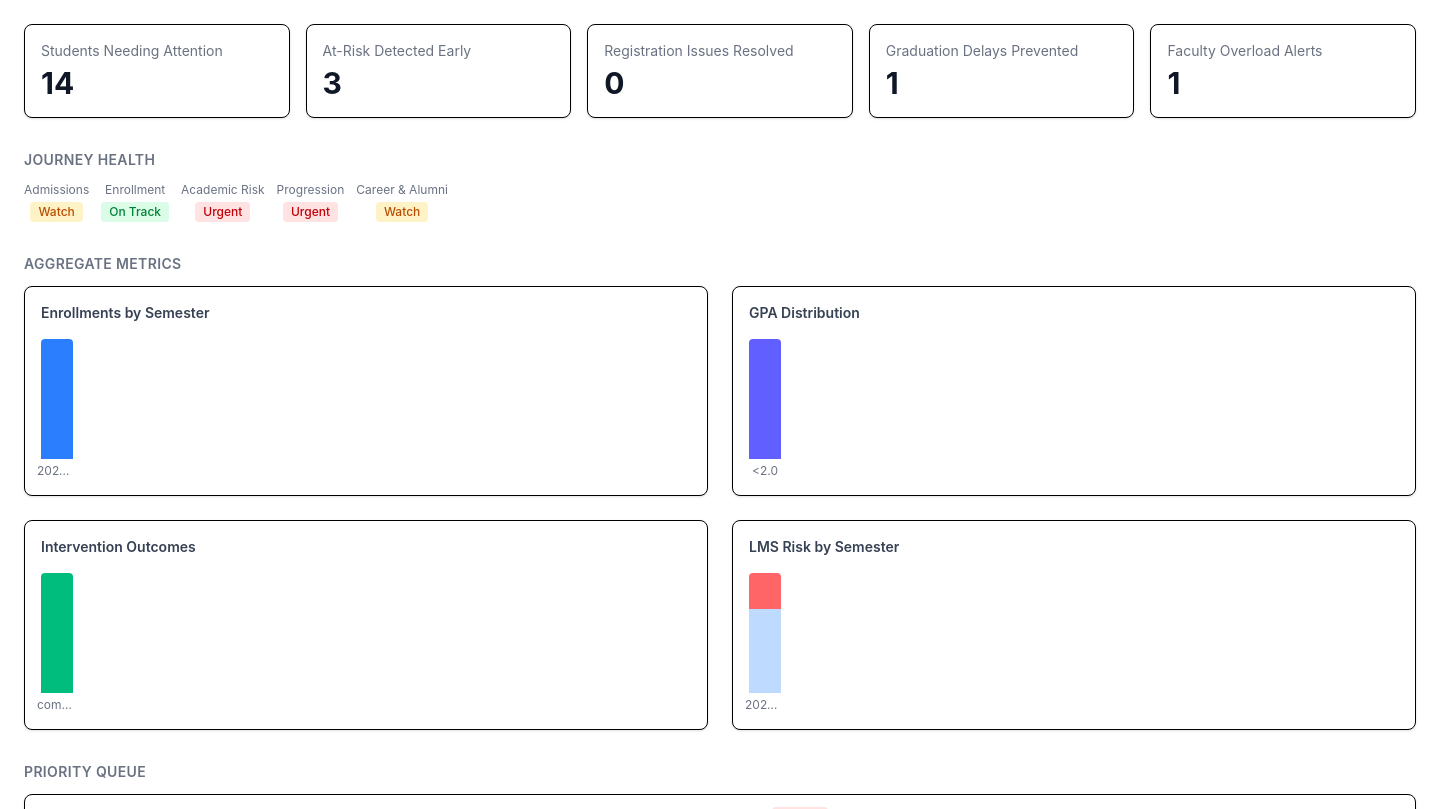
OverviewPage drill-down data › opens a zero-count card's empty state from server-supplied data, with no client fetch
What coordinates should you click on to do the following:
click the button "Registration Issues Resolved 0"
I would click on:
 (699, 50)
Its box is [587,24,853,118].
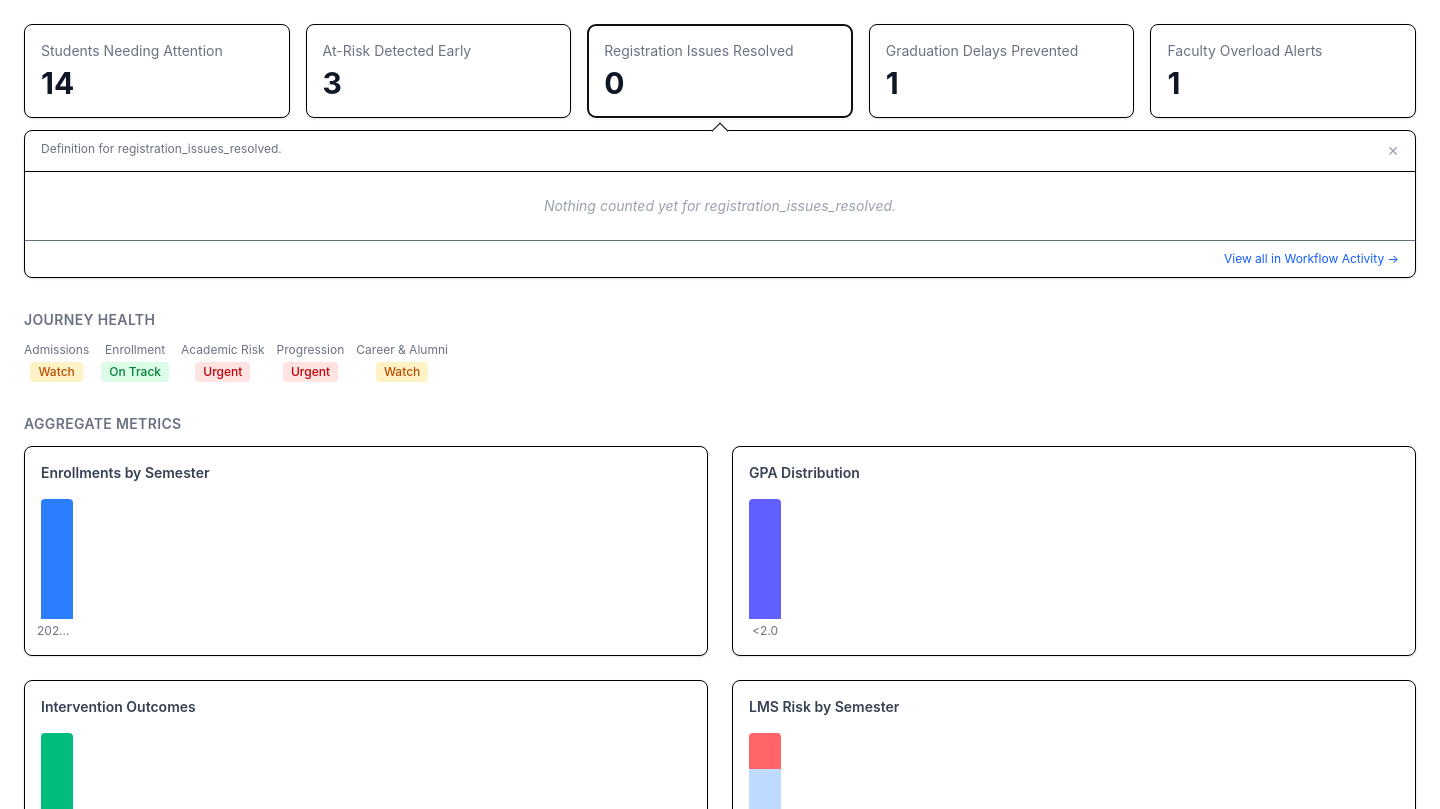
Expected: the element with test id "kpi-drilldown" shows "Nothing counted yet for registration_issues_resolved.", [544,197,896,214]
